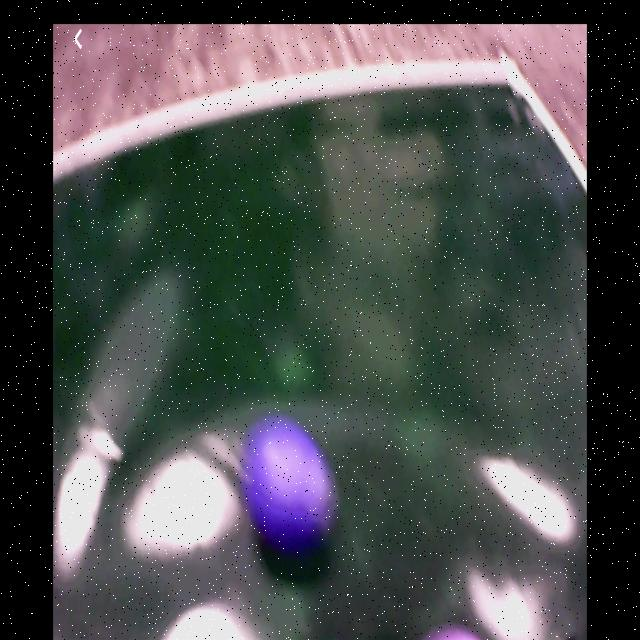ball: (245, 422, 336, 547), (429, 620, 486, 640)
